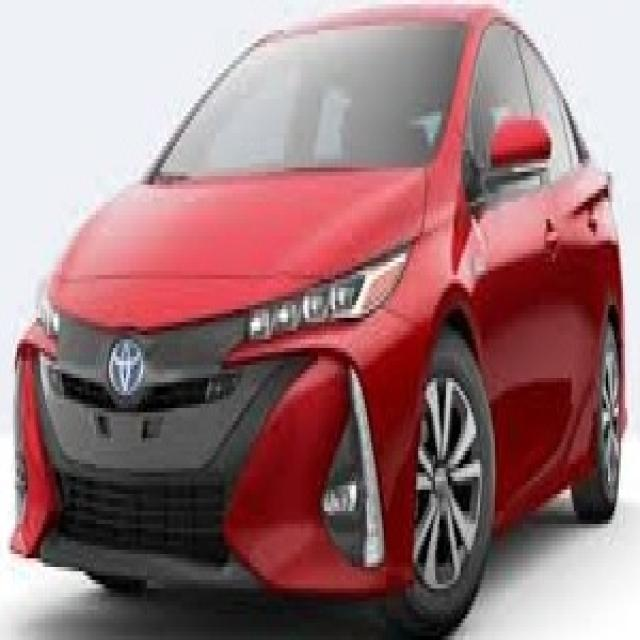red: (16, 4, 640, 592)
